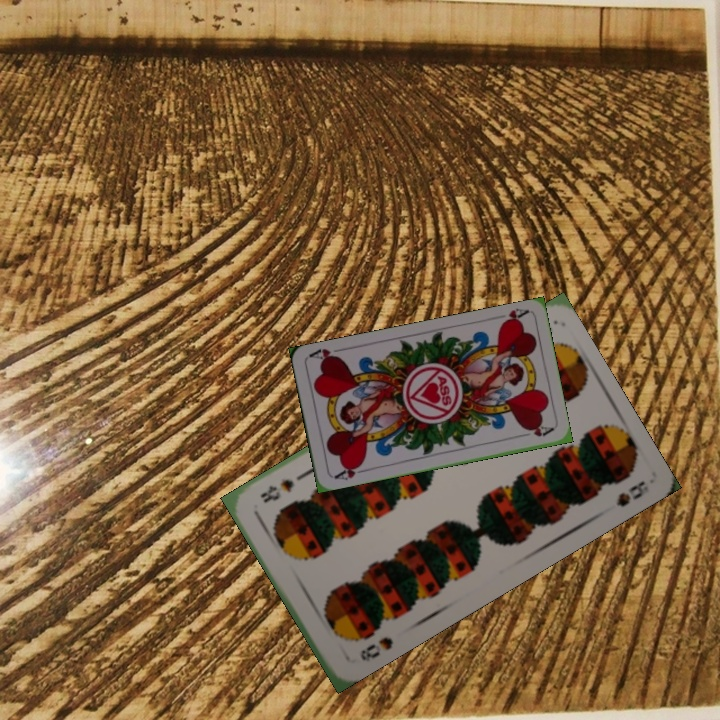HA: (330, 459, 370, 483), (496, 304, 530, 328)
S8: (356, 632, 396, 664)
